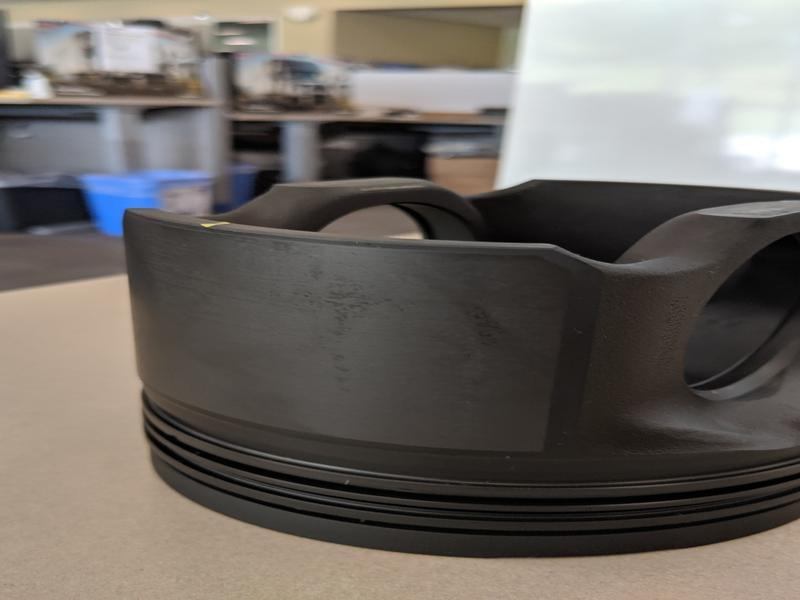piston: (122, 172, 800, 564)
